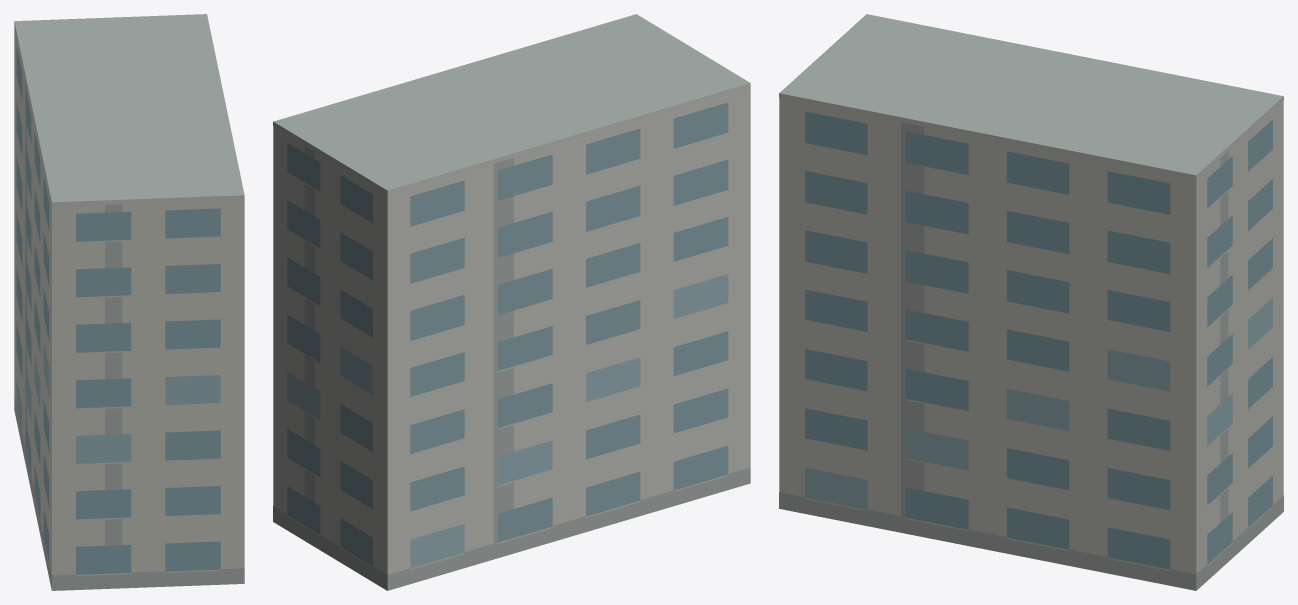
Rendered from residential-0376ffaa-5222-4541-9ffa-8e82e8e4c991.glb.
3 views of the same model, side by side, from view 1: azimuth 30°, elevation 25°; view 2: azimuth 150°, elevation 25°; view 3: azimuth 270°, elevation 25° (orthographic). The views are drawn at different scales.
Parts seen in each view (by area): view 1: residential-0376ffaa-5222-4541-9ffa-8e82e8e4c991.tmp; view 2: residential-0376ffaa-5222-4541-9ffa-8e82e8e4c991.tmp; view 3: residential-0376ffaa-5222-4541-9ffa-8e82e8e4c991.tmp.
Boxes of the visible parts, x1,y1,x2,y2 form: residential-0376ffaa-5222-4541-9ffa-8e82e8e4c991.tmp: (14, 14, 244, 590); residential-0376ffaa-5222-4541-9ffa-8e82e8e4c991.tmp: (273, 14, 750, 590); residential-0376ffaa-5222-4541-9ffa-8e82e8e4c991.tmp: (779, 14, 1283, 590).
Size of the model in its own units: 17.79 by 21.35 by 23.51.
